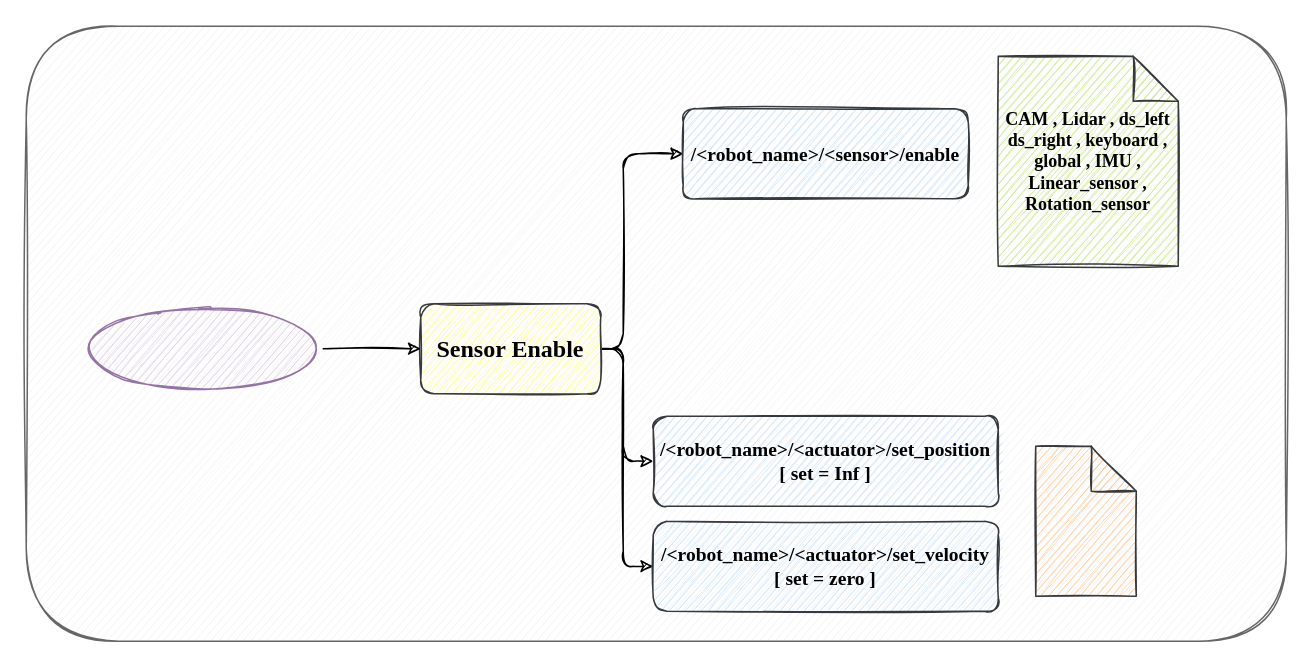
Image size: 1313x668. Some labels were removed from this diagram. The shapes that lost their labels are listed below. From the top down, each one's box as (x1, y1, x2, y2) in pixels, then its label:
(82, 306, 323, 390): /model_name
(1034, 445, 1136, 596): wheel1 , wheel2 , wheel3 , wheel4 , linear , RM
